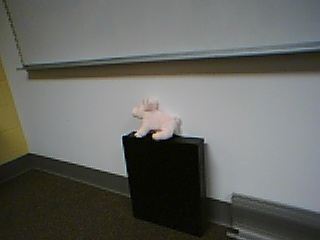piggy: (131, 97, 184, 141)
